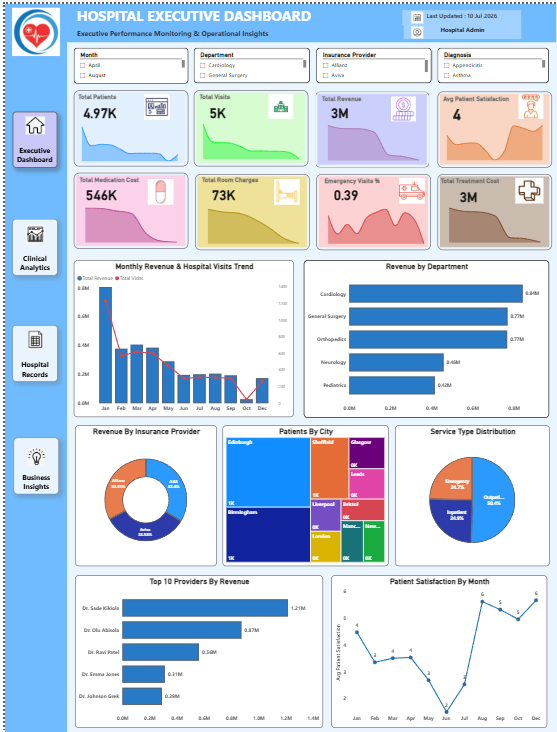

Layout of this report page (visuals, bound fields, positions):
{"tool":"powerbi","page":{"name":"Executive Dashboard","canvas":[1470,1950],"ordinal":0},"visuals":[{"type":"shape","box":[0,101.4,165.7,1848.6],"z":0,"group":"g4"},{"type":"shape","box":[181.7,231.1,305.6,202.8],"z":0,"group":"g1"},{"type":"lineClusteredColumnComboChart","title":"Monthly Revenue & Hospital Visits Trend","fields":{"Category":["Date Table.Month Short"],"Y":["DAX Measures.Total Revenue"],"Y2":["DAX Measures.Total Visits"]},"box":[184,684,587.3,418.3],"z":0,"group":"g3"},{"type":"shape","box":[0,0,1470,102],"z":1000,"group":"g4"},{"type":"cardVisual","fields":{"Data":["DAX Measures.Total Patients"]},"box":[187.3,256.5,126.8,66.2],"z":1000,"group":"g1"},{"type":"clusteredBarChart","title":"Revenue by Department","fields":{"Category":["departments.Department"],"Y":["DAX Measures.Total Revenue"]},"box":[797.3,684.5,654,420],"z":1000,"group":"g3"},{"type":"textbox","box":[177.1,0,747.1,72.9],"z":2000,"group":"g4"},{"type":"donutChart","title":"Revenue By Insurance Provider","fields":{"Category":["insurance.Insurance Provider"],"Y":["DAX Measures.Total Revenue"]},"box":[186.6,1125.2,378.6,375.7],"z":2000,"group":"g3"},{"type":"textbox","box":[176.7,60,571.7,41.7],"z":3000,"group":"g4"},{"type":"pieChart","title":"Service Type Distribution","fields":{"Category":["visits.Service Type"],"Y":["DAX Measures.Total Visits"]},"box":[1040.9,1125.2,412.9,375.7],"z":3000,"group":"g3"},{"type":"image","box":[8.6,8.6,145.7,128.6],"z":4000,"group":"g4"},{"type":"treemap","title":"Patients By City","fields":{"Group":["cities.City"],"Values":["DAX Measures.Total Patients"]},"box":[581.6,1125.2,442.9,375.7],"z":4000,"group":"g3"},{"type":"group","id":"g1","title":"Group 1","box":[181.7,231,1274.8,425.8],"z":5000,"group":"g4"},{"type":"clusteredBarChart","title":"Top 10 Providers By Revenue","fields":{"Category":["providers.Provider Name"],"Y":["DAX Measures.Total Revenue"]},"box":[186.6,1523.8,661.4,407.1],"z":5000,"group":"g3"},{"type":"textbox","box":[187.3,234,122.5,43.7],"z":6000,"group":"g1"},{"type":"actionButton","box":[20,285,120,150],"z":6000,"group":"g4"},{"type":"lineChart","title":"Patient Satisfaction By Month","fields":{"Category":["Date Table.Month Short"],"Y":["DAX Measures.Avg Patient Satisfaction"]},"box":[872.3,1523.8,575.7,407.1],"z":6000,"group":"g3"},{"type":"group","id":"g2","title":"Group 2","box":[182,116,1266,96],"z":7000,"group":"g4"},{"type":"areaChart","fields":{"Category":["Date Table.Month Short"],"Y":["DAX Measures.Monthly Patients"]},"box":[187.3,312.8,285.9,111.3],"z":7000,"group":"g1"},{"type":"cardVisual","fields":{"Data":["DAX Measures.Last Refresh"]},"box":[1043.3,0,350,73.3],"z":8000,"group":"g4"},{"type":"image","box":[345.1,242.4,116.9,69],"z":8000,"group":"g1"},{"type":"shape","box":[501.9,231,305.6,202.8],"z":9000,"group":"g1"},{"type":"group","id":"g3","title":"Group 3","box":[184,684,1268,1246],"z":9000,"group":"g4"},{"type":"cardVisual","fields":{"Data":["DAX Measures.Total Visits"]},"box":[501.4,259.3,126.8,66.2],"z":10000,"group":"g1"},{"type":"actionButton","box":[20,571.7,120,150],"z":10000,"group":"g4"},{"type":"textbox","box":[511.2,234.5,121.3,42.7],"z":11000,"group":"g1"},{"type":"image","box":[51.7,300,55,48.3],"z":11000,"group":"g4"},{"type":"areaChart","fields":{"Category":["Date Table.Month Short"],"Y":["DAX Measures.Total Visits"]},"box":[511.2,307.8,285.3,112],"z":12000,"group":"g1"},{"type":"image","box":[51.7,588.3,55,48.3],"z":12000,"group":"g4"},{"type":"image","box":[681,242.3,104.2,66.2],"z":13000,"group":"g1"},{"type":"actionButton","box":[21.7,1156.7,120,150],"z":13000,"group":"g4"},{"type":"shape","box":[826.4,233.3,305.6,202.8],"z":14000,"group":"g1"},{"type":"actionButton","box":[20,855,120,150],"z":14000,"group":"g4"},{"type":"cardVisual","fields":{"Data":["DAX Measures.Total Revenue"]},"box":[826.8,259.3,126.8,66.2],"z":15000,"group":"g1"},{"type":"image","box":[56.7,1183.3,55,48.3],"z":15000,"group":"g4"},{"type":"textbox","box":[838,238.2,121.1,42.3],"z":16000,"group":"g1"},{"type":"image","box":[53.3,870,55,48.3],"z":16000,"group":"g4"},{"type":"textbox","box":[1061.7,53.3,313.3,40],"z":17000,"group":"g4"},{"type":"areaChart","fields":{"Y":["DAX Measures.Total Revenue"],"Category":["Date Table.Weekday"]},"box":[838,310,285.9,112.7],"z":17000,"group":"g1"},{"type":"image","box":[1083.3,20,31.7,31.7],"z":18000,"group":"g4"},{"type":"image","box":[1009.9,246.6,104.2,66.2],"z":18000,"group":"g1"},{"type":"image","box":[1083.3,55,31.7,38.3],"z":19000,"group":"g4"},{"type":"shape","box":[1150.9,234.4,305.6,202.8],"z":19000,"group":"g1"},{"type":"group","id":"g4","title":"Group 4","box":[0,0,1470,1950],"z":19001},{"type":"cardVisual","fields":{"Data":["DAX Measures.Avg Patient Satisfaction"]},"box":[1171.8,259.3,63.4,74.6],"z":20000,"group":"g1"},{"type":"textbox","box":[1162,238.2,253.5,42.3],"z":21000,"group":"g1"},{"type":"areaChart","fields":{"Category":["Date Table.Month Short"],"Y":["DAX Measures.Avg Patient Satisfaction"]},"box":[1161.4,311.2,285.3,112],"z":22000,"group":"g1"},{"type":"image","box":[1349.3,242.4,104.2,66.2],"z":23000,"group":"g1"},{"type":"shape","box":[181.8,450.7,305.6,202.8],"z":25000,"group":"g1"},{"type":"cardVisual","fields":{"Data":["DAX Measures.Total Medication Cost"]},"box":[191.7,476.1,126.8,66.2],"z":26000,"group":"g1"},{"type":"textbox","box":[191.6,453.7,187.3,43.7],"z":27000,"group":"g1"},{"type":"areaChart","fields":{"Y":["DAX Measures.Total Medication Cost"],"Category":["Date Table.Weekday"]},"box":[191.7,532.4,285.9,111.3],"z":28000,"group":"g1"},{"type":"image","box":[356.3,466.4,116.9,69],"z":29000,"group":"g1"},{"type":"shape","box":[504.8,453,305.6,202.8],"z":30000,"group":"g1"},{"type":"cardVisual","fields":{"Data":["DAX Measures.Total Room Charges"]},"box":[519.6,478.3,126.8,66.2],"z":31000,"group":"g1"},{"type":"textbox","box":[519.7,455.1,173.2,43.7],"z":32000,"group":"g1"},{"type":"areaChart","fields":{"Y":["DAX Measures.Total Room Charges"],"Category":["Date Table.Weekday"]},"box":[514.3,529,286,110],"z":33000,"group":"g1"},{"type":"image","box":[690.2,466.4,116.9,69],"z":34000,"group":"g1"},{"type":"shape","box":[827.8,454,305.6,202.8],"z":35000,"group":"g1"},{"type":"cardVisual","fields":{"Data":["DAX Measures.Emergency Visits %"]},"box":[846.2,479.3,126.8,66.2],"z":36000,"group":"g1"},{"type":"textbox","box":[846.5,456.5,178.9,43.7],"z":37000,"group":"g1"},{"type":"areaChart","fields":{"Category":["Date Table.Month Short"],"Y":["DAX Measures.Emergency Visits %"]},"box":[846.2,535.6,285.9,111.3],"z":38000,"group":"g1"},{"type":"image","box":[1025.4,464.9,116.9,69],"z":39000,"group":"g1"},{"type":"shape","box":[1150.7,453.7,305.6,202.8],"z":40000,"group":"g1"},{"type":"cardVisual","fields":{"Data":["DAX Measures.Total Treatment Cost"]},"box":[1171.8,480.4,126.8,66.2],"z":41000,"group":"g1"},{"type":"textbox","box":[1154.9,457.9,184.5,43.7],"z":42000,"group":"g1"},{"type":"areaChart","fields":{"Y":["DAX Measures.Total Treatment Cost"],"Category":["Date Table.Weekday"]},"box":[1162,532.5,285.9,111.3],"z":43000,"group":"g1"},{"type":"image","box":[1339.4,463.5,116.9,69],"z":44000,"group":"g1"},{"type":"slicer","fields":{"Values":["Date Table.Month"]},"box":[182,116,305.6,95.8],"z":45000,"group":"g2"},{"type":"slicer","fields":{"Values":["departments.Department"]},"box":[503.1,116,309.9,94.4],"z":46000,"group":"g2"},{"type":"slicer","fields":{"Values":["insurance.Insurance Provider"]},"box":[828.5,117.4,307,94.4],"z":47000,"group":"g2"},{"type":"slicer","fields":{"Values":["diagnoses.Diagnosis"]},"box":[1151,116,297.2,94.4],"z":48000,"group":"g2"}]}

Visuals, with their boxes on the page's 1470x1950 design canvas (x1, y1, x2, y2). These are canvas units, not pixel positions in the 557x732 screenshot, which may show the page scaled, cropped or inside an application window:
shape: [0,101,166,1950]
shape: [182,231,487,434]
"Monthly Revenue & Hospital Visits Trend" lineClusteredColumnComboChart: [184,684,771,1102]
shape: [0,0,1470,102]
cardVisual - DAX Measures.Total Patients: [187,256,314,323]
"Revenue by Department" clusteredBarChart: [797,684,1451,1104]
textbox: [177,0,924,73]
"Revenue By Insurance Provider" donutChart: [187,1125,565,1501]
textbox: [177,60,748,102]
"Service Type Distribution" pieChart: [1041,1125,1454,1501]
image: [9,9,154,137]
"Patients By City" treemap: [582,1125,1024,1501]
"Group 1" group: [182,231,1456,657]
"Top 10 Providers By Revenue" clusteredBarChart: [187,1524,848,1931]
textbox: [187,234,310,278]
actionButton: [20,285,140,435]
"Patient Satisfaction By Month" lineChart: [872,1524,1448,1931]
"Group 2" group: [182,116,1448,212]
areaChart - Date Table.Month Short x DAX Measures.Monthly Patients: [187,313,473,424]
cardVisual - DAX Measures.Last Refresh: [1043,0,1393,73]
image: [345,242,462,311]
shape: [502,231,808,434]
"Group 3" group: [184,684,1452,1930]
cardVisual - DAX Measures.Total Visits: [501,259,628,326]
actionButton: [20,572,140,722]
textbox: [511,234,632,277]
image: [52,300,107,348]
areaChart - Date Table.Month Short x DAX Measures.Total Visits: [511,308,796,420]
image: [52,588,107,637]
image: [681,242,785,308]
actionButton: [22,1157,142,1307]
shape: [826,233,1132,436]
actionButton: [20,855,140,1005]
cardVisual - DAX Measures.Total Revenue: [827,259,954,326]
image: [57,1183,112,1232]
textbox: [838,238,959,280]
image: [53,870,108,918]
textbox: [1062,53,1375,93]
areaChart - DAX Measures.Total Revenue x Date Table.Weekday: [838,310,1124,423]
image: [1083,20,1115,52]
image: [1010,247,1114,313]
image: [1083,55,1115,93]
shape: [1151,234,1456,437]
"Group 4" group: [0,0,1470,1950]
cardVisual - DAX Measures.Avg Patient Satisfaction: [1172,259,1235,334]
textbox: [1162,238,1416,280]
areaChart - Date Table.Month Short x DAX Measures.Avg Patient Satisfaction: [1161,311,1447,423]
image: [1349,242,1454,309]
shape: [182,451,487,654]
cardVisual - DAX Measures.Total Medication Cost: [192,476,318,542]
textbox: [192,454,379,497]
areaChart - DAX Measures.Total Medication Cost x Date Table.Weekday: [192,532,478,644]
image: [356,466,473,535]
shape: [505,453,810,656]
cardVisual - DAX Measures.Total Room Charges: [520,478,646,544]
textbox: [520,455,693,499]
areaChart - DAX Measures.Total Room Charges x Date Table.Weekday: [514,529,800,639]
image: [690,466,807,535]
shape: [828,454,1133,657]
cardVisual - DAX Measures.Emergency Visits %: [846,479,973,546]
textbox: [846,456,1025,500]
areaChart - Date Table.Month Short x DAX Measures.Emergency Visits %: [846,536,1132,647]
image: [1025,465,1142,534]
shape: [1151,454,1456,656]
cardVisual - DAX Measures.Total Treatment Cost: [1172,480,1299,547]
textbox: [1155,458,1339,502]
areaChart - DAX Measures.Total Treatment Cost x Date Table.Weekday: [1162,532,1448,644]
image: [1339,464,1456,532]
slicer - Date Table.Month: [182,116,488,212]
slicer - departments.Department: [503,116,813,210]
slicer - insurance.Insurance Provider: [828,117,1136,212]
slicer - diagnoses.Diagnosis: [1151,116,1448,210]
